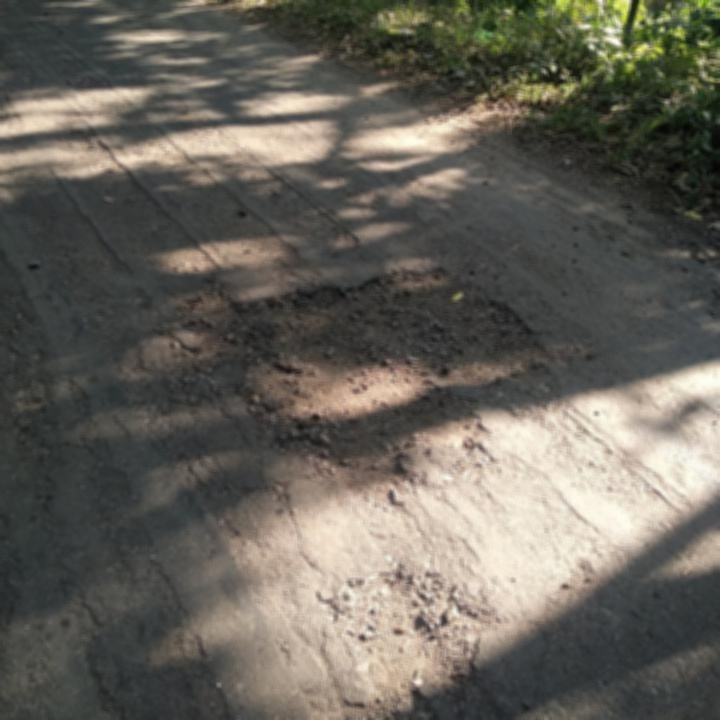pothole: (182, 268, 552, 502), (322, 568, 487, 718)
